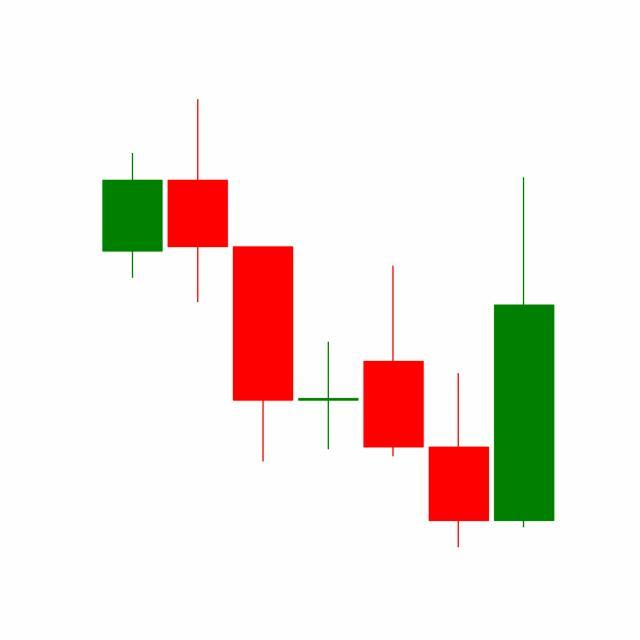Three Outside Up-Down: (295, 262, 492, 549)
